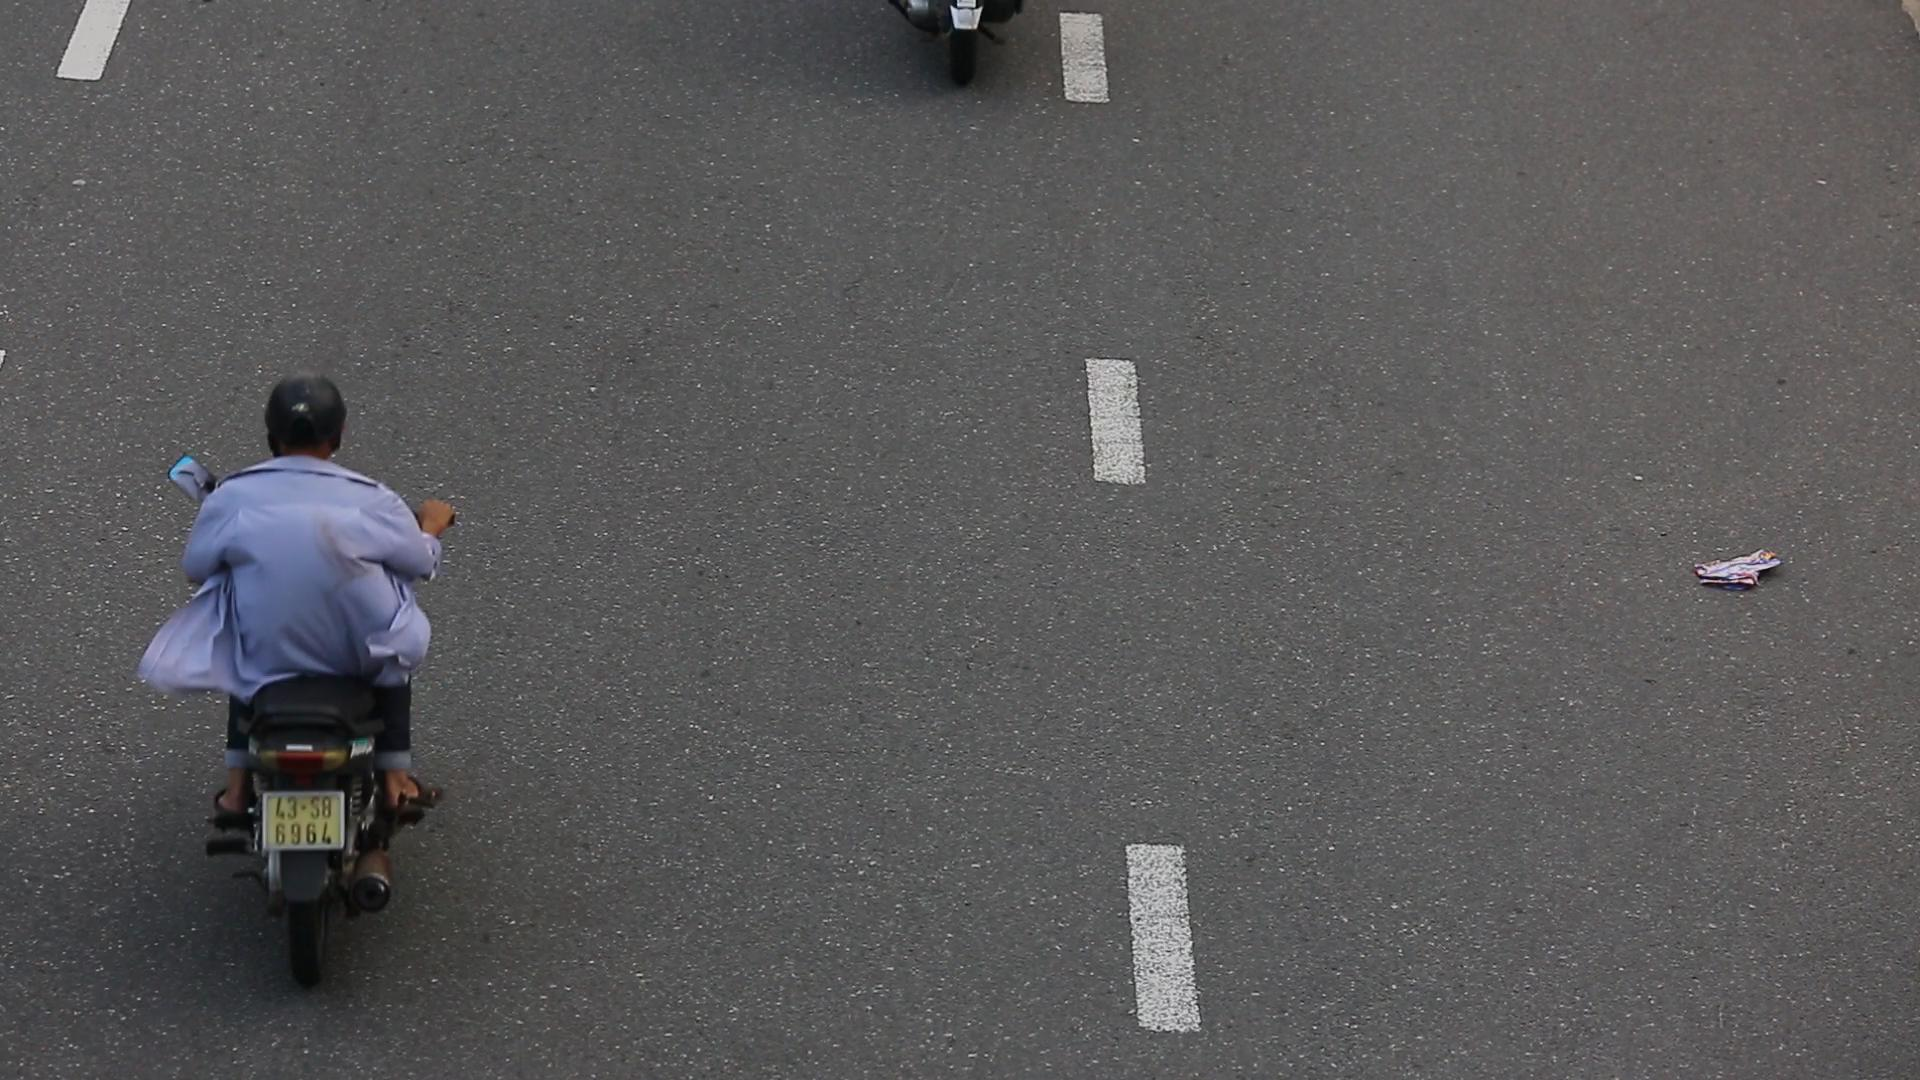motobike: (131, 371, 484, 985)
